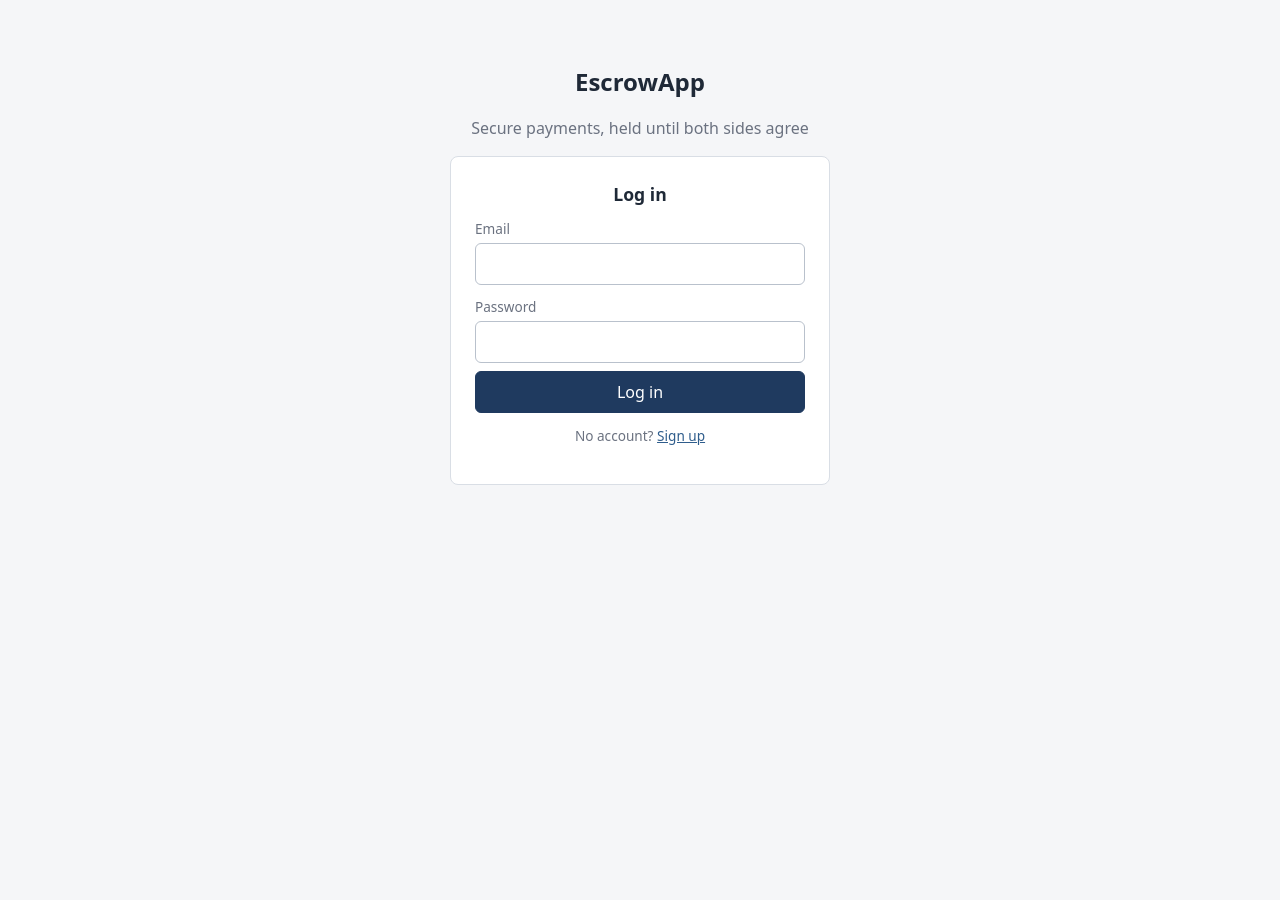
Test case: login & guards › sends a logged-out visitor to the login page, then to their dashboard after logging in
The image size is (1280, 900).
Type "bea@example.com" into the field labelled "Email". click: (640, 264)
box: [475,243,805,285]
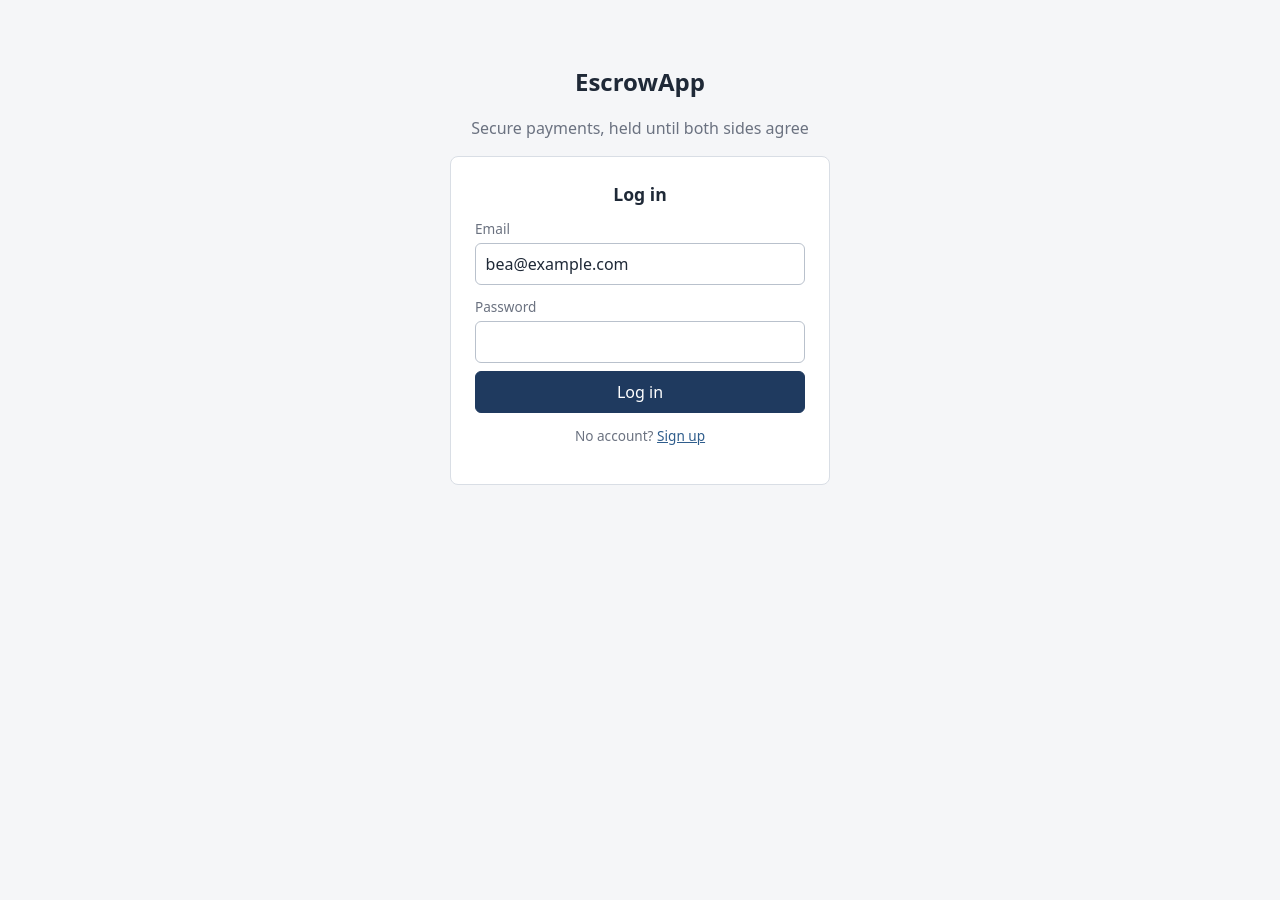
Type "correct-horse-1" into the password field labelled "Password". click: (640, 342)
box: [475,320,805,362]
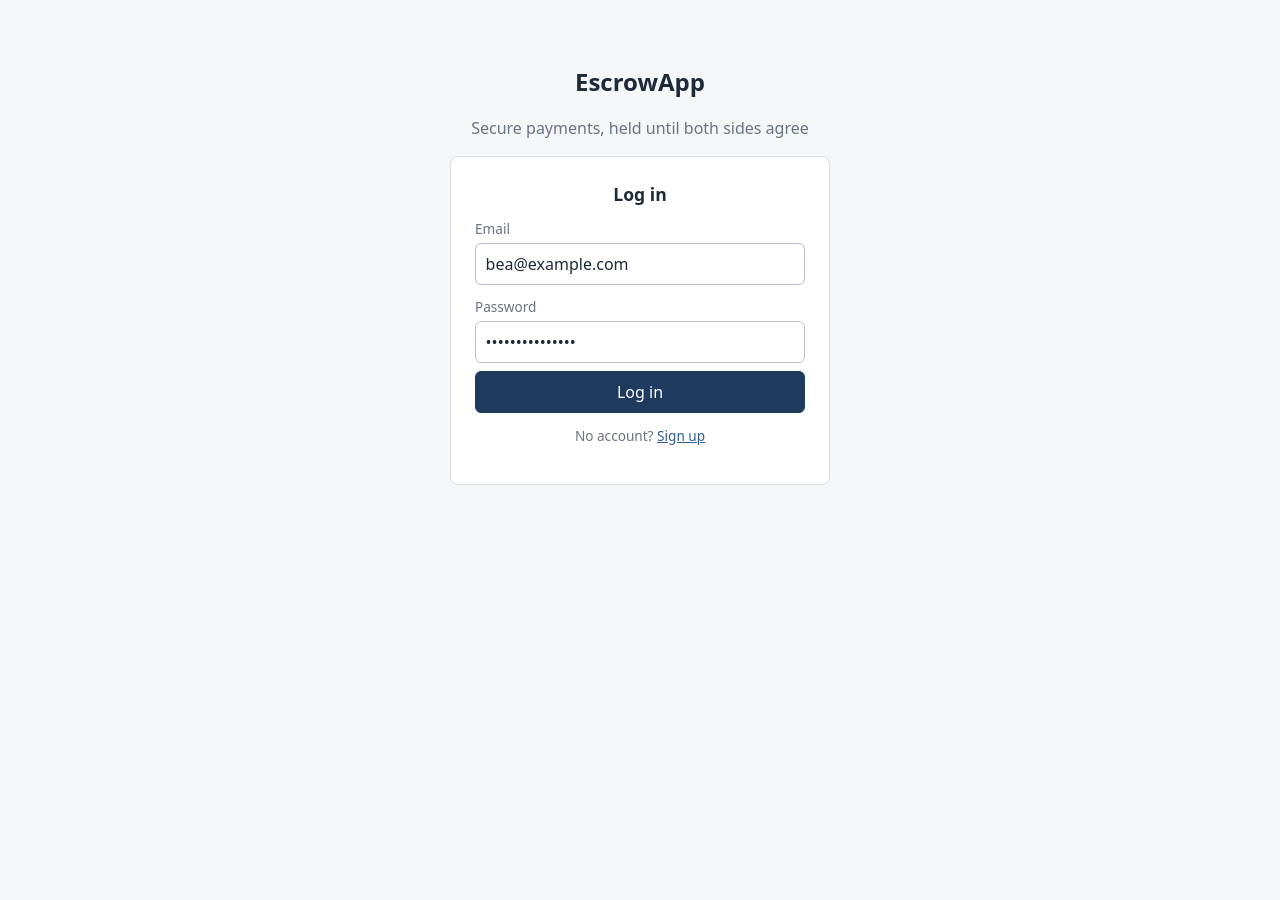
Click the button "Log in". click: (640, 392)
box: [475,370,805,412]
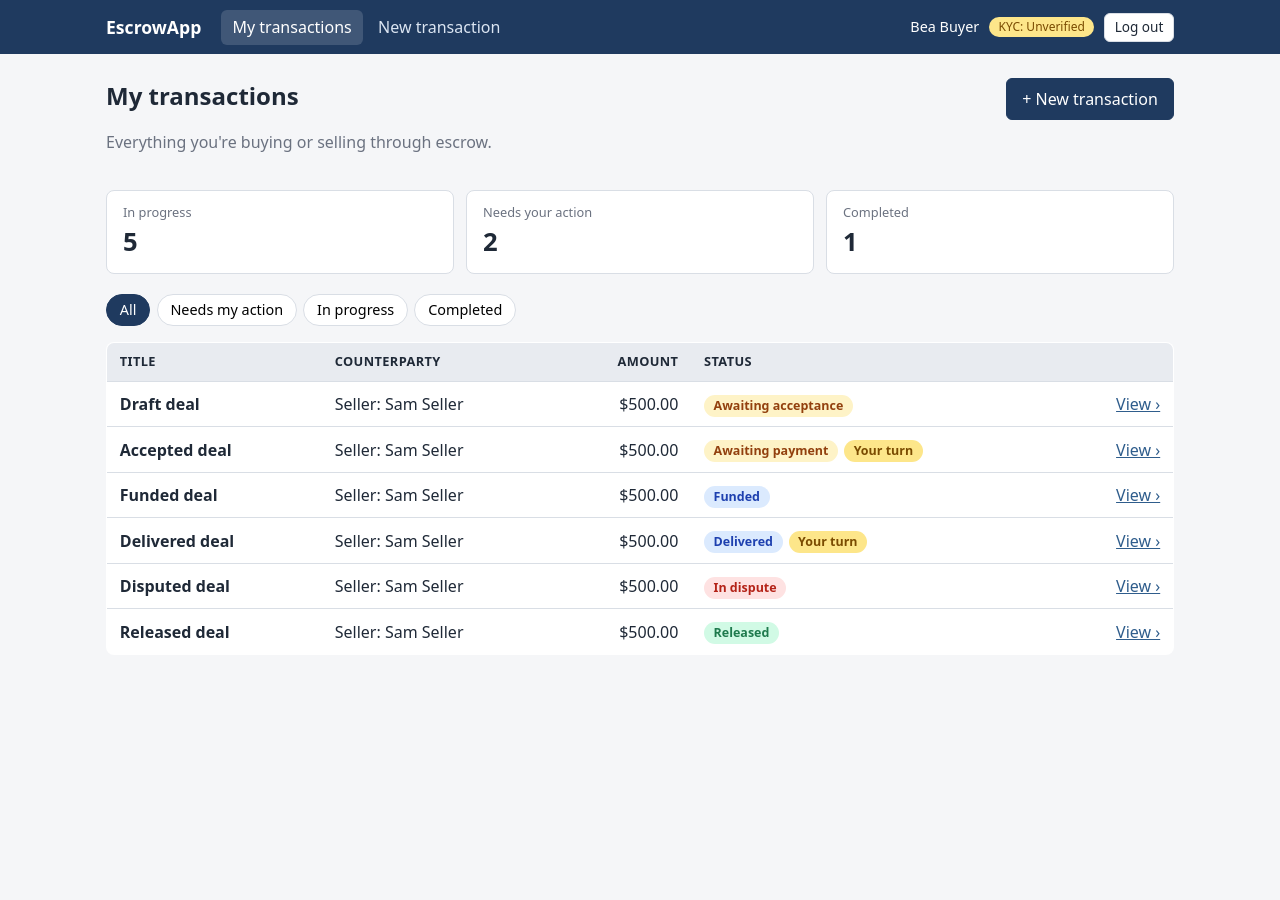
Expected: the heading "My transactions" is shown, [106,79,299,112]
Expected: the text "Funded deal" is shown, [120,484,218,506]
